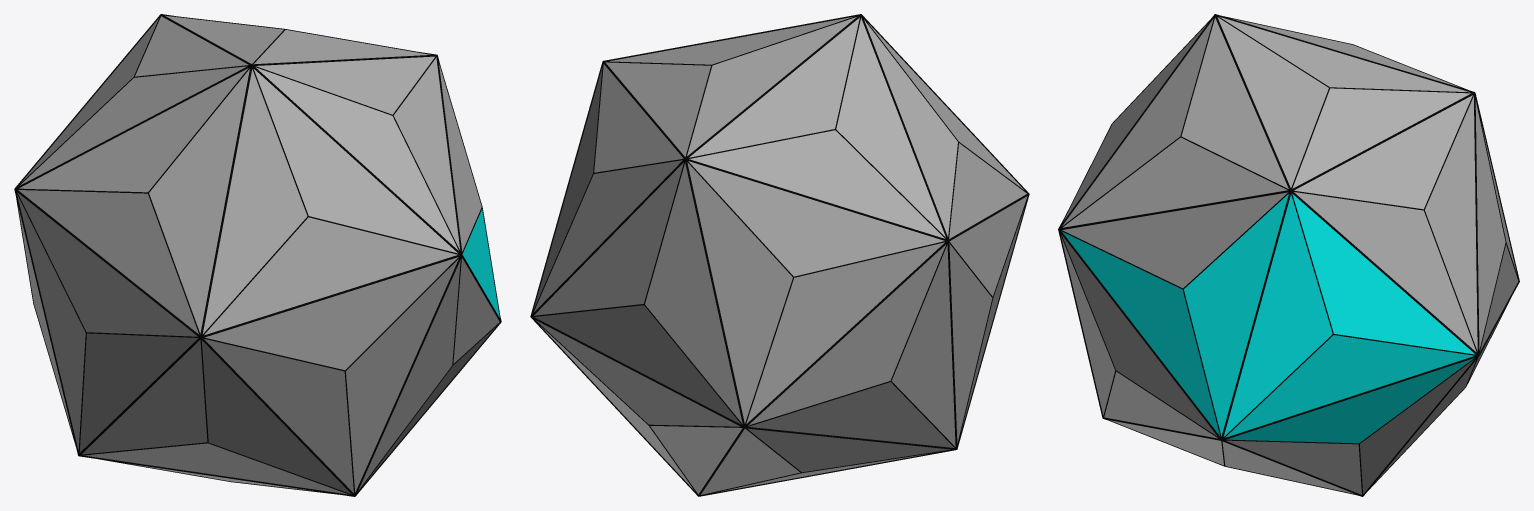
File: TriakisIcosahedron6_6.glb
The picture shows the model from 3 angles, left to right: view 1: azimuth 30°, elevation 25°; view 2: azimuth 150°, elevation 25°; view 3: azimuth 270°, elevation 25°; orthographic projection. The views are drawn at different scales.
Bounding box in the file's own units: 6.16 × 6.49 × 6.16.
